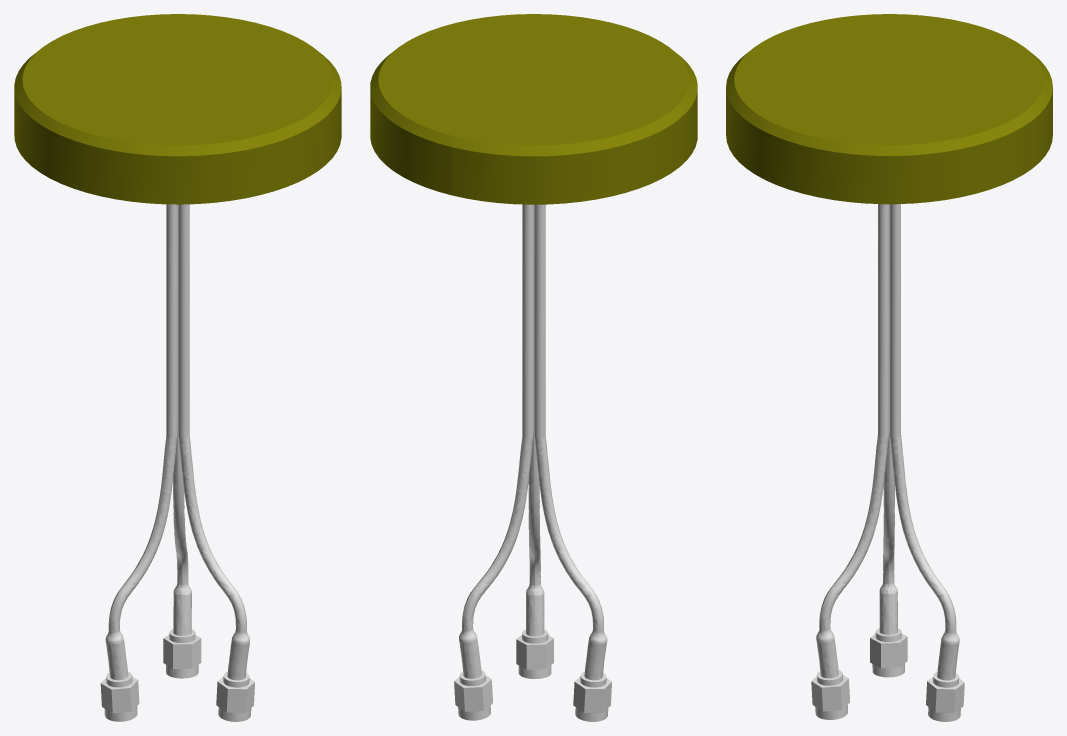
The model's file is PR1KCS28.glb.
The picture shows the model from 3 angles, left to right: view 1: azimuth 30°, elevation 25°; view 2: azimuth 150°, elevation 25°; view 3: azimuth 270°, elevation 25°; orthographic projection.
Parts seen in each view (by area): view 1: COMBO SISO MOBILE GNSS WIFI ROOF SMA ANTENNA.STEP, mesh_5, mesh_9, mesh_7, mesh_4, mesh_8; view 2: COMBO SISO MOBILE GNSS WIFI ROOF SMA ANTENNA.STEP, mesh_5, mesh_7, mesh_9, mesh_4, mesh_6; view 3: COMBO SISO MOBILE GNSS WIFI ROOF SMA ANTENNA.STEP, mesh_7, mesh_9, mesh_5, mesh_6, mesh_8.
Part boxes in pixels (bbox=[...]): COMBO SISO MOBILE GNSS WIFI ROOF SMA ANTENNA.STEP: bbox=[14, 14, 341, 204]; mesh_5: bbox=[100, 436, 177, 721]; mesh_9: bbox=[178, 436, 254, 721]; mesh_7: bbox=[163, 433, 201, 678]; mesh_4: bbox=[166, 204, 177, 437]; mesh_8: bbox=[178, 204, 189, 437]; COMBO SISO MOBILE GNSS WIFI ROOF SMA ANTENNA.STEP: bbox=[370, 14, 697, 204]; mesh_5: bbox=[534, 436, 611, 721]; mesh_7: bbox=[454, 436, 533, 720]; mesh_9: bbox=[516, 434, 553, 678]; mesh_4: bbox=[534, 204, 545, 438]; mesh_6: bbox=[522, 204, 533, 438]; COMBO SISO MOBILE GNSS WIFI ROOF SMA ANTENNA.STEP: bbox=[726, 14, 1052, 204]; mesh_7: bbox=[890, 435, 964, 721]; mesh_9: bbox=[811, 435, 888, 719]; mesh_5: bbox=[870, 432, 907, 677]; mesh_6: bbox=[890, 204, 900, 436]; mesh_8: bbox=[878, 204, 888, 436].
Size of the model in its own units: 79.9 by 167 by 80.
